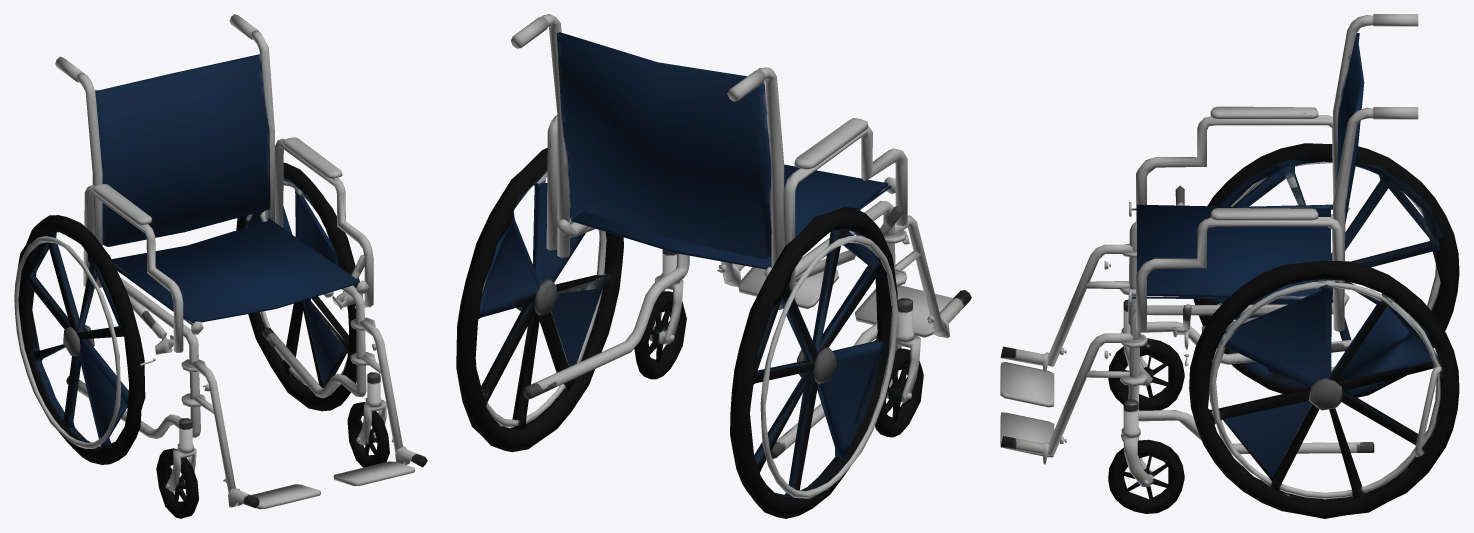
Rendered from upa_cadeira_rodas.glb.
The picture shows the model from 3 angles, left to right: view 1: azimuth 30°, elevation 25°; view 2: azimuth 150°, elevation 25°; view 3: azimuth 270°, elevation 25°; orthographic projection. The views are drawn at different scales.
Parts seen in each view (by area): view 1: upa_cadeira_rodas – Manual Wheelchair; view 2: upa_cadeira_rodas – Manual Wheelchair; view 3: upa_cadeira_rodas – Manual Wheelchair.
Part boxes in pixels (x1,y1,x2,y2): upa_cadeira_rodas – Manual Wheelchair: (14,14,427,518); upa_cadeira_rodas – Manual Wheelchair: (456,14,971,518); upa_cadeira_rodas – Manual Wheelchair: (1000,14,1459,518).
Bounding box in the file's own units: 0.6802 × 0.95 × 0.9847.
Materials: 2 (1 with a texture image).
